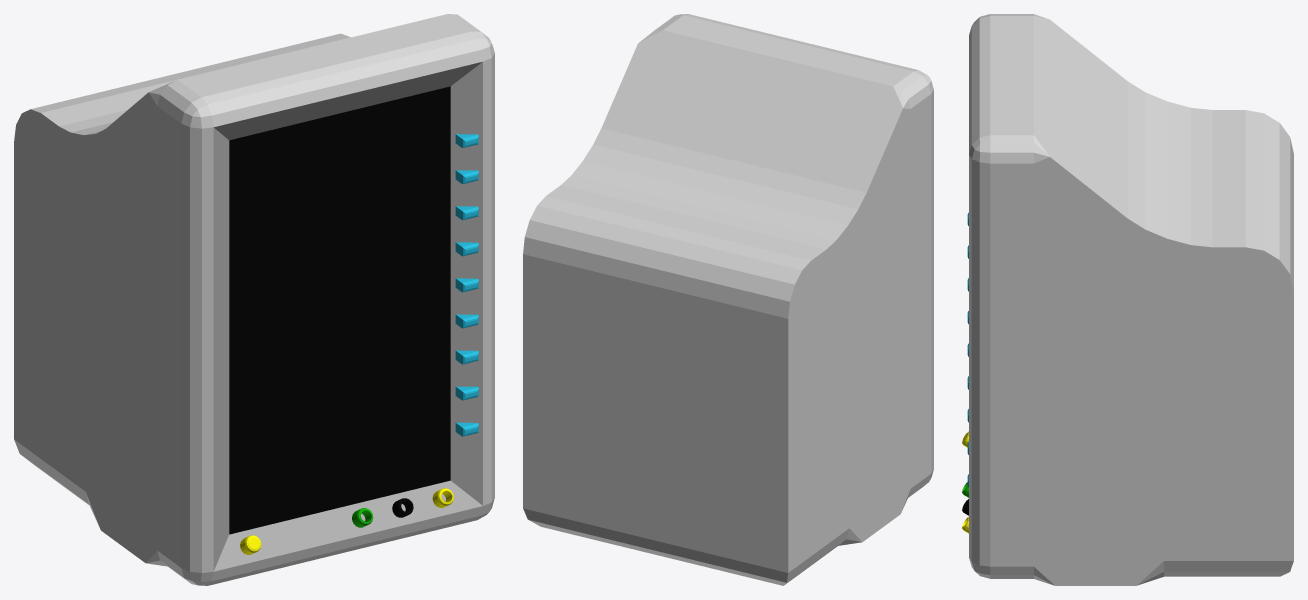
Rendered from BMA11.fbx.
The picture shows the model from 3 angles, left to right: view 1: azimuth 30°, elevation 25°; view 2: azimuth 150°, elevation 25°; view 3: azimuth 270°, elevation 25°; orthographic projection. The views are drawn at different scales.
Parts seen in each view (by area): view 1: BMA11; view 2: BMA11; view 3: BMA11.
Boxes of the visible parts, x1,y1,x2,y2 form: BMA11: [14, 14, 494, 585]; BMA11: [523, 14, 933, 585]; BMA11: [962, 14, 1293, 585].
Bounding box in the file's own units: 10 × 15 × 10.21.
